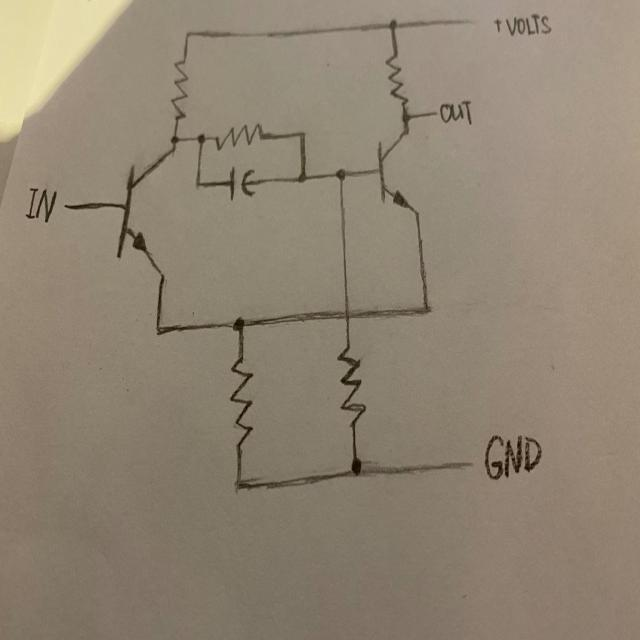capacitor: (220, 162, 260, 204)
crossover: (337, 297, 355, 326)
junction: (343, 450, 369, 492), (414, 290, 437, 330), (226, 305, 252, 339), (227, 466, 250, 504), (292, 122, 312, 150), (150, 313, 166, 344), (293, 164, 312, 190), (332, 160, 348, 186), (385, 10, 400, 37), (193, 125, 209, 148), (182, 21, 194, 42), (168, 127, 180, 145), (398, 109, 412, 124), (194, 175, 202, 191)
resistor: (336, 343, 369, 429), (229, 356, 255, 450), (384, 48, 412, 107), (214, 121, 264, 153), (168, 55, 188, 124)
terminal: (452, 11, 483, 36), (61, 192, 88, 219), (456, 451, 482, 474), (424, 104, 440, 120)
text: (481, 430, 544, 482), (25, 182, 59, 225), (504, 10, 554, 37), (438, 96, 474, 129), (491, 14, 502, 36)
transistor: (115, 147, 180, 294), (373, 128, 422, 213)
